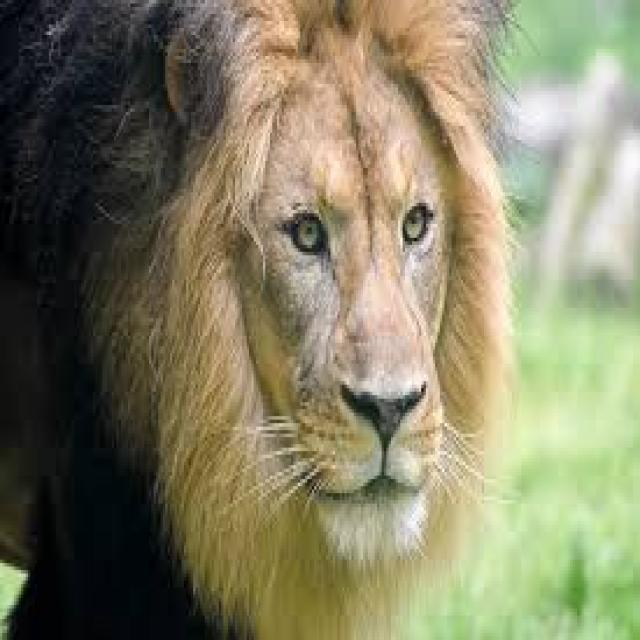Lion: (0, 0, 507, 637)
